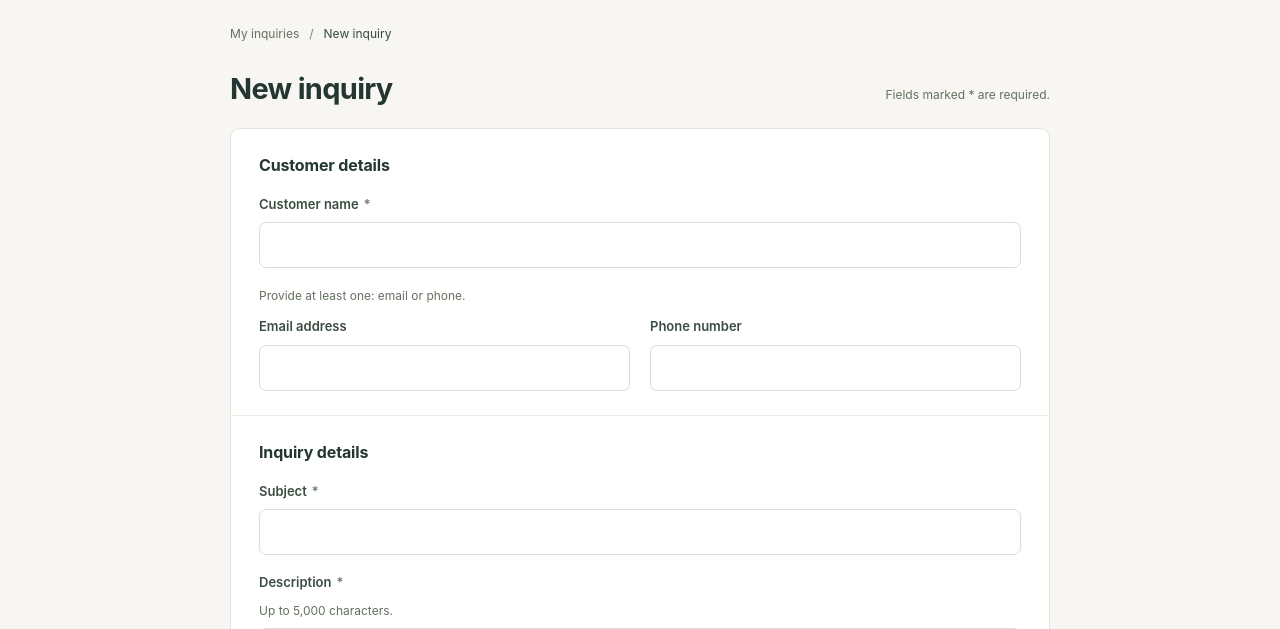
a save completing after Cancel does not redirect away from the list
(page scrolled)
Type "Ada Customer" into the field labelled "Customer name" at (640, 245), box [259,222,1021,268]
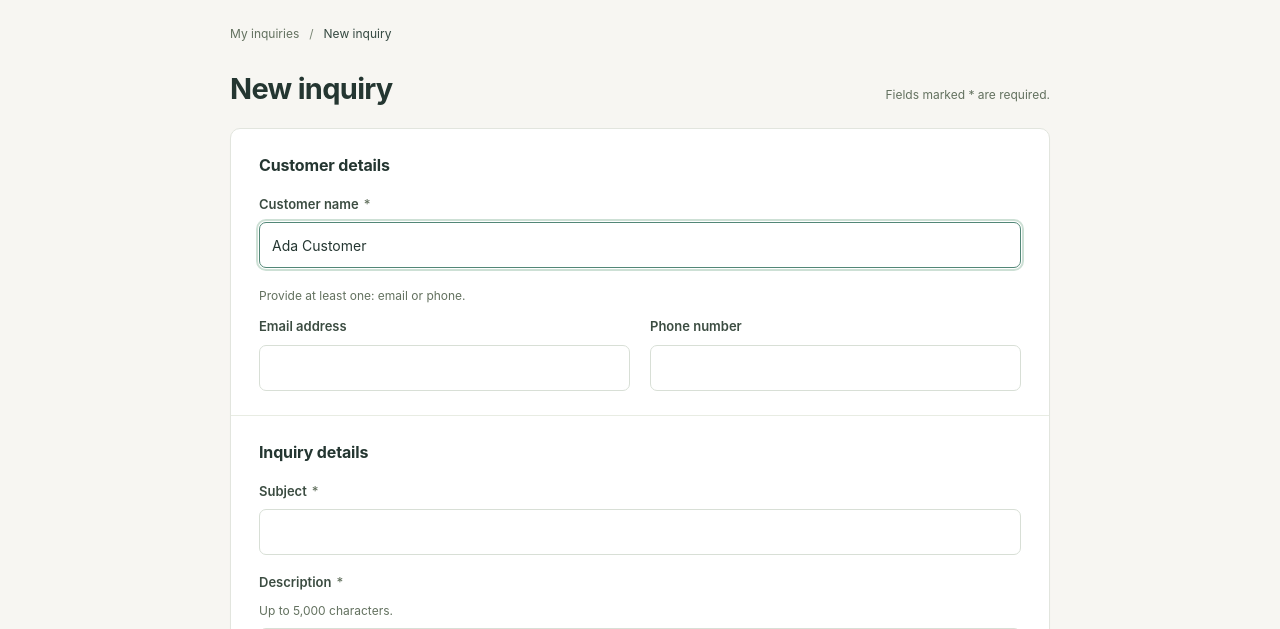
Type "ada@example.test" into the field labelled "Email address" at (444, 368), box [259,345,630,391]
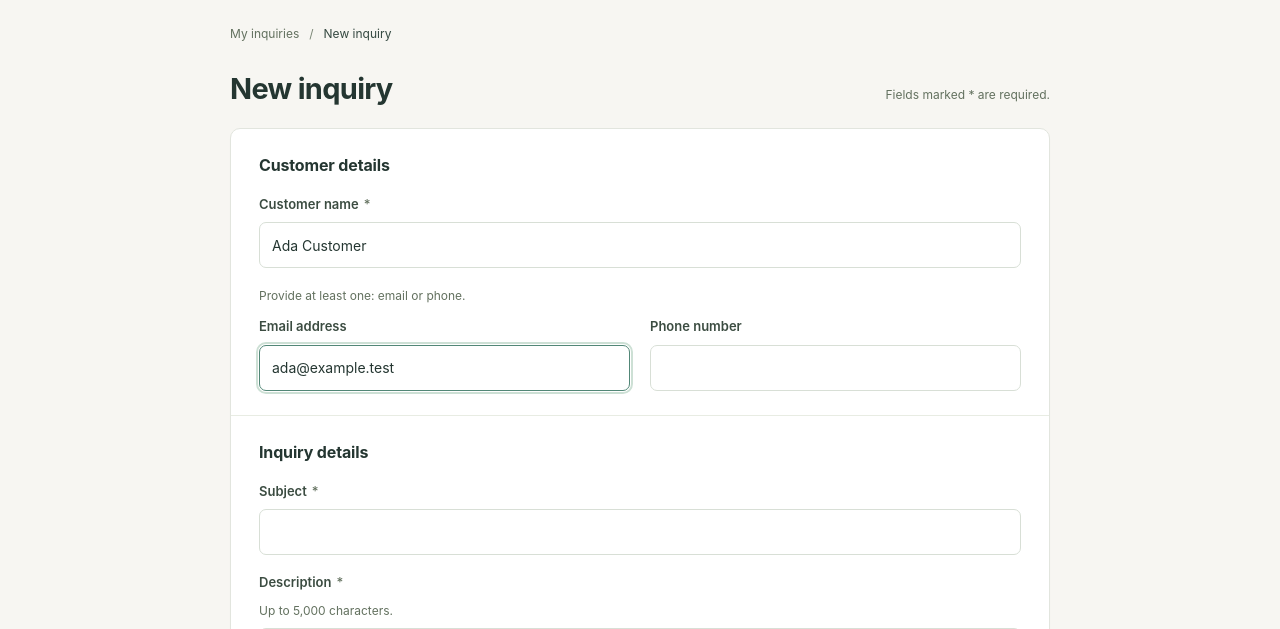
Type "Router issue" into the field labelled "Subject" at (640, 532), box [259,509,1021,555]
(page scrolled)
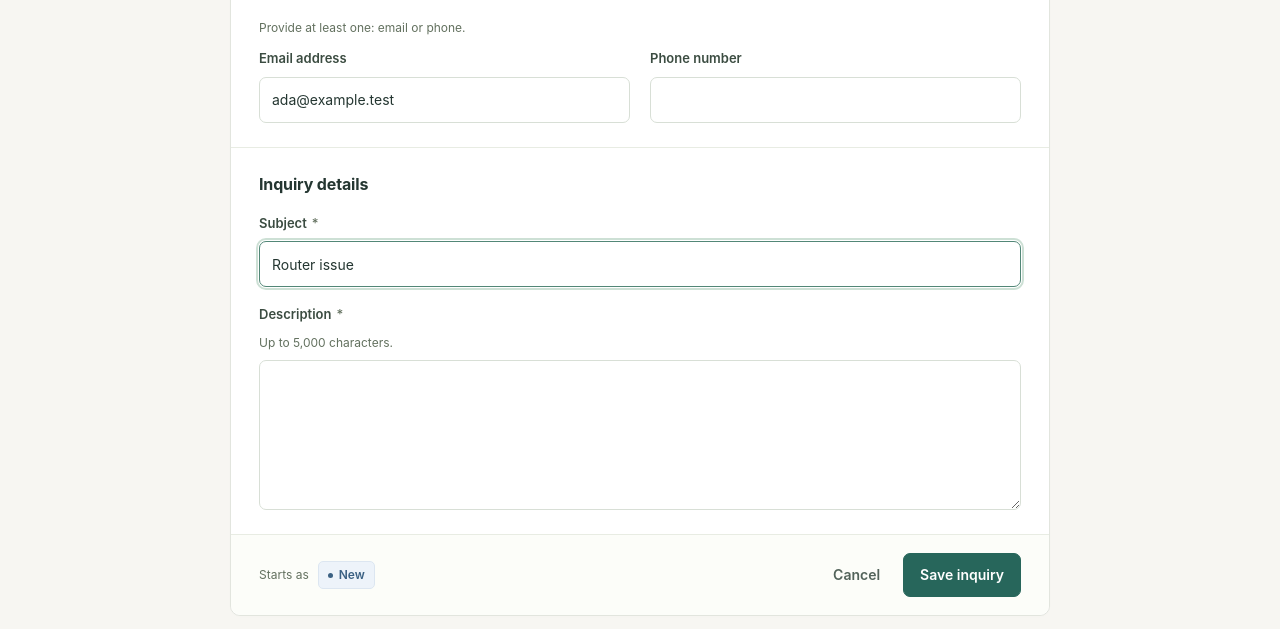
Type "The router drops its connection." into the text box labelled "Description" at (640, 435), box [259,360,1021,510]
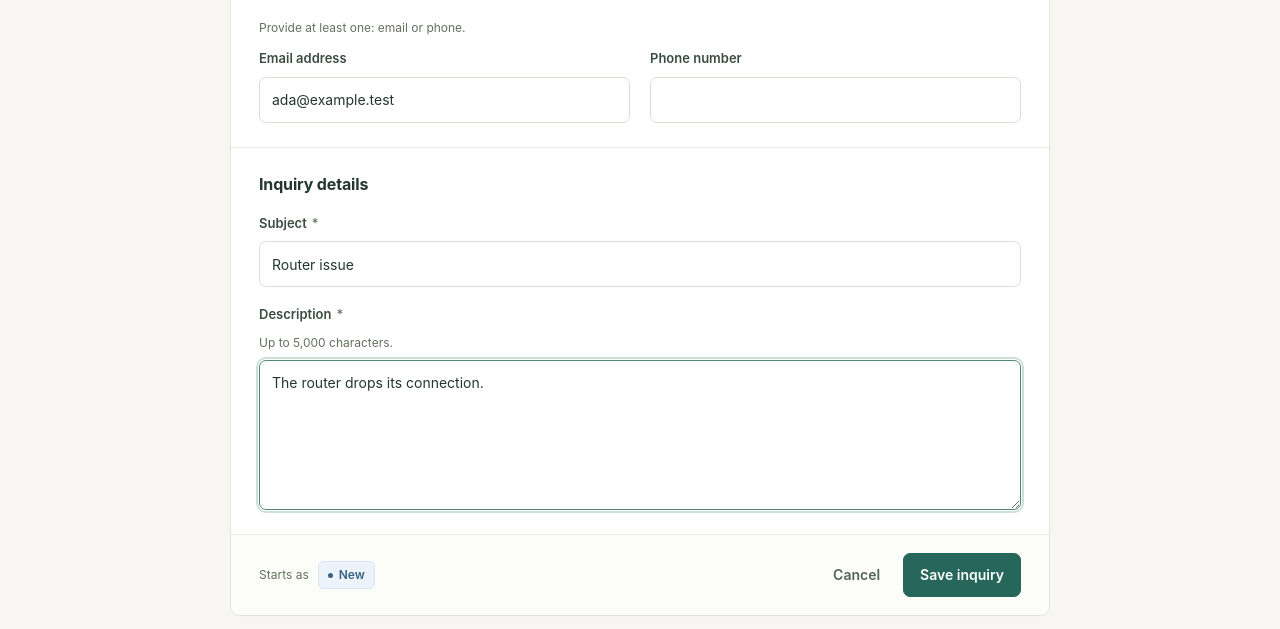
Click the button "Save inquiry" at (962, 575), box [903,553,1021,597]
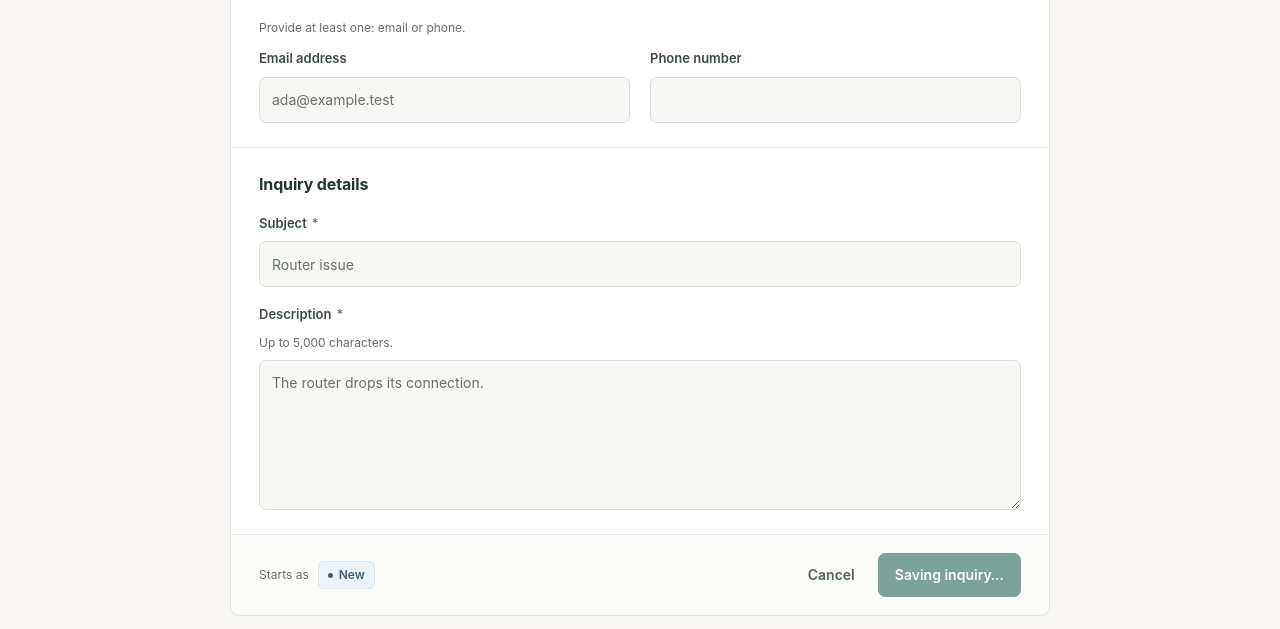
Click the link "Cancel" at (831, 575), box [808,566,855,583]
(page scrolled)
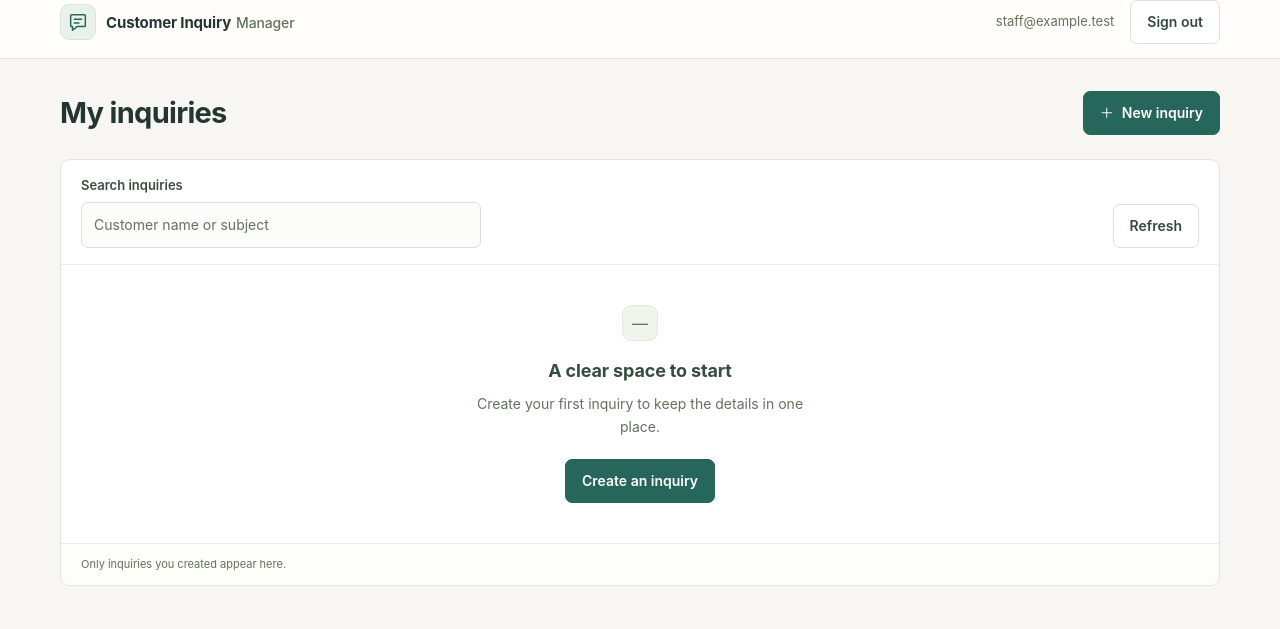
Expected: the heading "My inquiries" is shown, [60,94,227,132]
